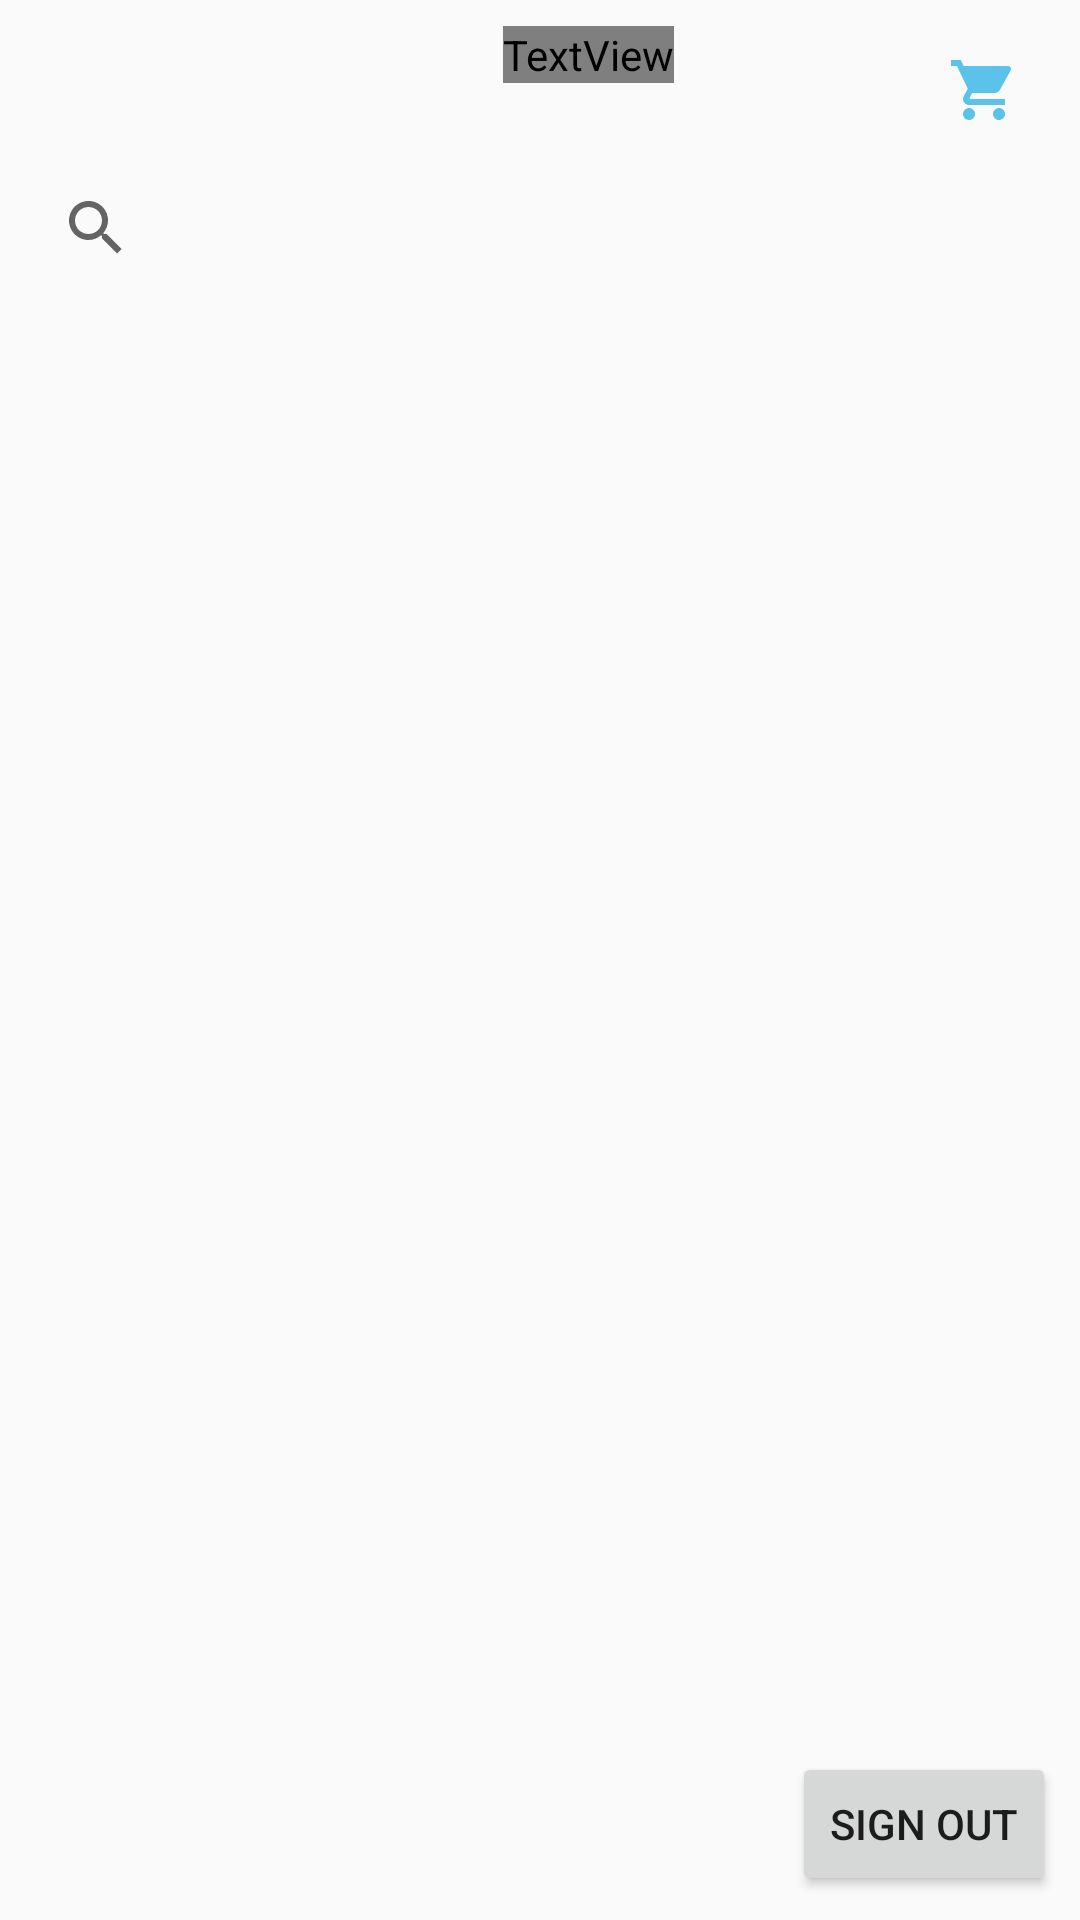

Where icons sit on this 1080px x 1920px app screen, as (x1, y1, x2, y2):
shoppingcart: (951, 60, 1011, 120)
